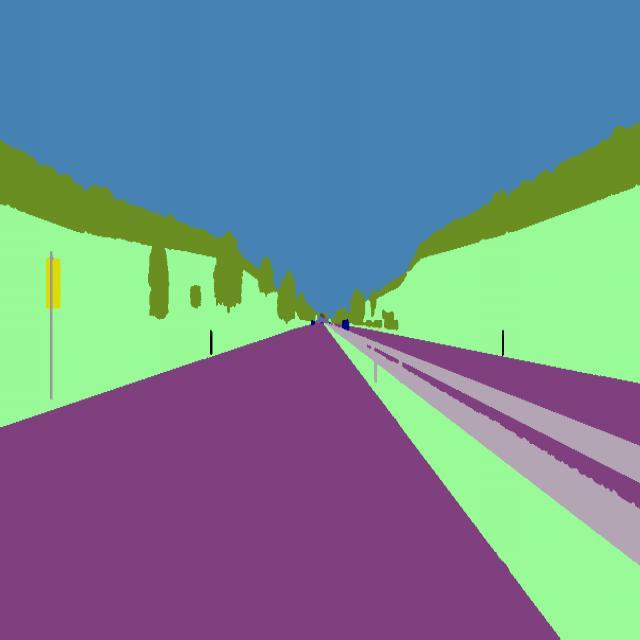safe: (338, 314, 352, 332)
